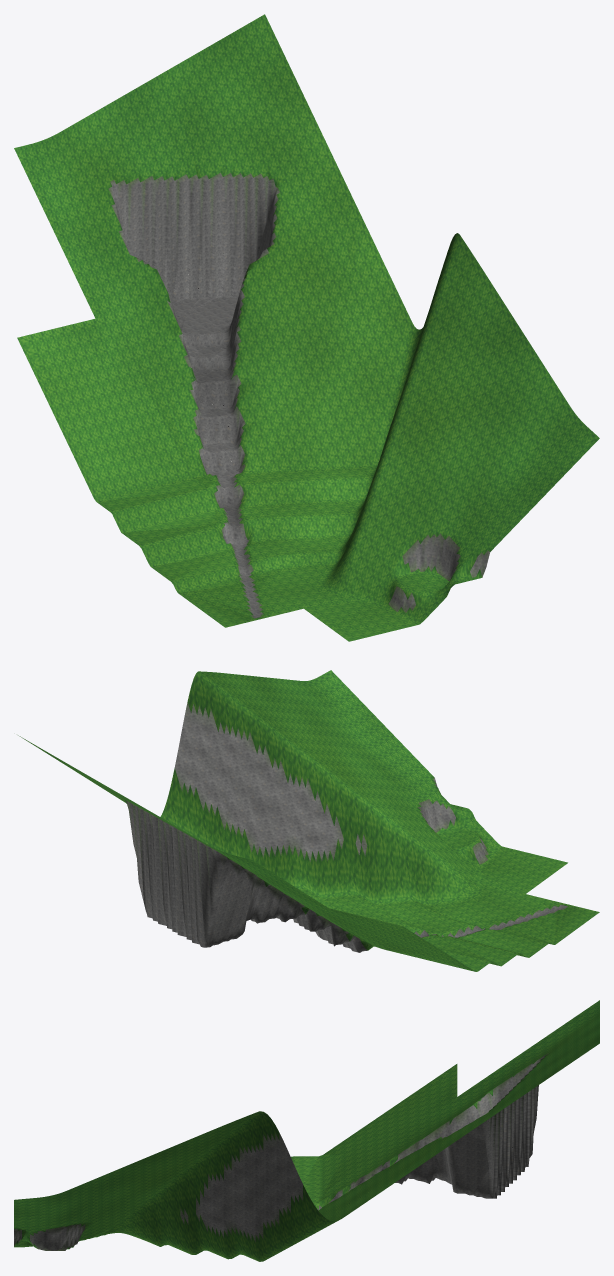
File: payo_land_near_sw_lod1.glb
The picture shows the model from 3 angles, top to bottom: view 1: azimuth 30°, elevation 25°; view 2: azimuth 150°, elevation 25°; view 3: azimuth 270°, elevation 25°; orthographic projection. The views are drawn at different scales.
Parts seen in each view (by area): view 1: payo_land_near_sw; view 2: payo_land_near_sw; view 3: payo_land_near_sw.
Part boxes in pixels (x1=…): payo_land_near_sw: x1=14, y1=14, x2=599, y2=641; payo_land_near_sw: x1=18, y1=670, x2=599, y2=971; payo_land_near_sw: x1=14, y1=1000, x2=599, y2=1261.
Bounding box in the file's own units: 126 × 118 × 222.
Materials: 2 (2 with a texture image).
